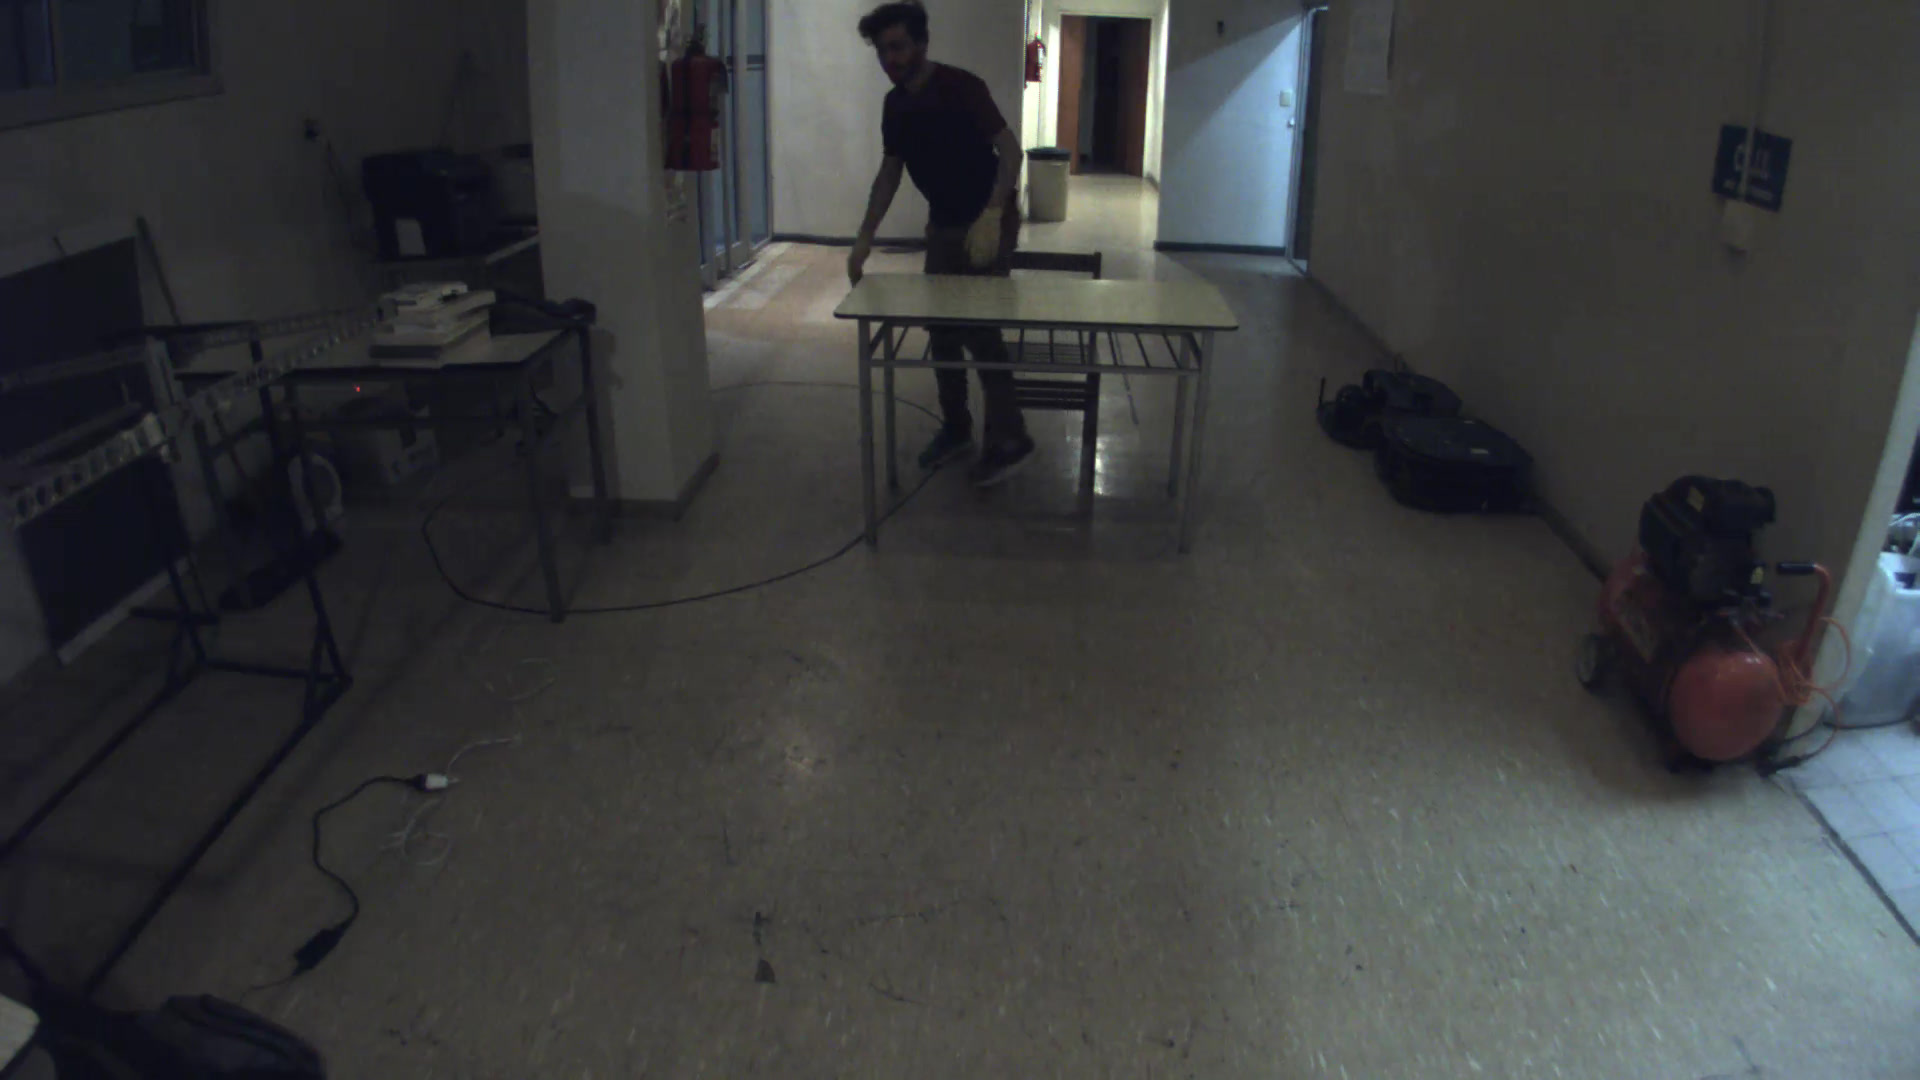hand: (955, 203, 1015, 269), (833, 233, 887, 293)
